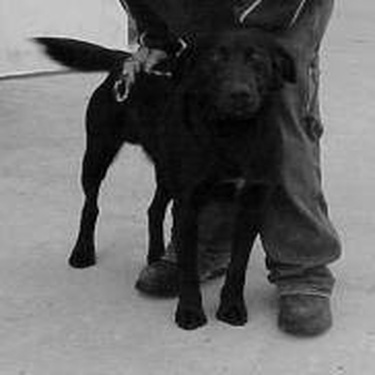dog: (22, 18, 313, 332)
